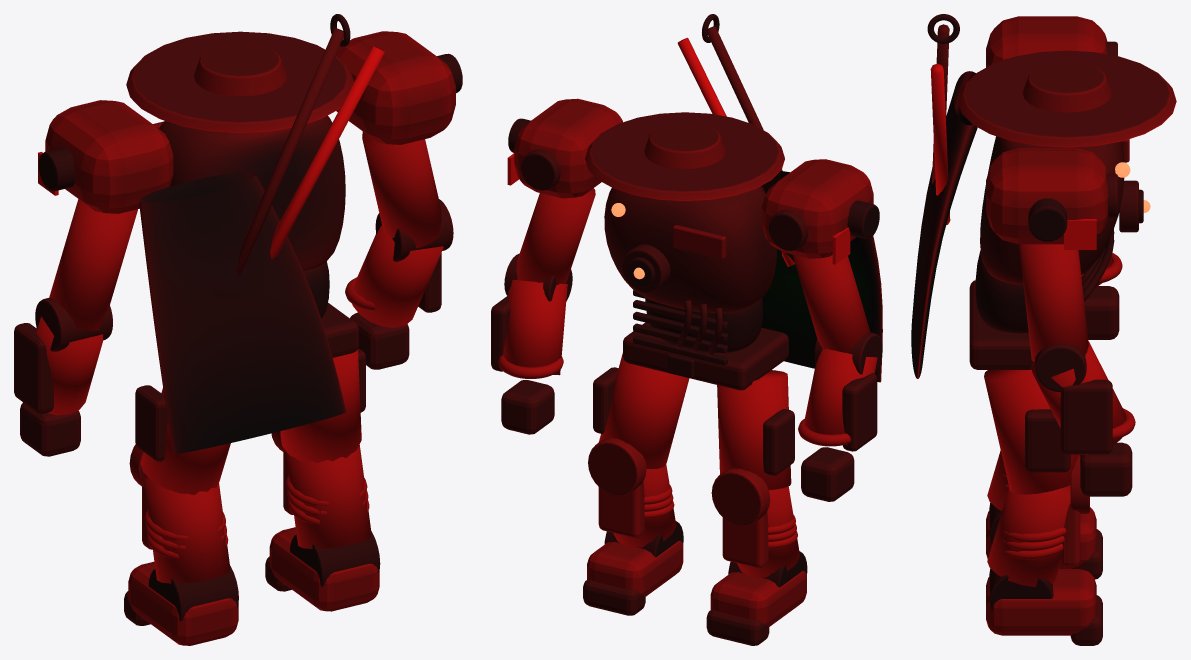
File: mf_raleigh.glb
3 views of the same model, side by side, from view 1: azimuth 30°, elevation 25°; view 2: azimuth 150°, elevation 25°; view 3: azimuth 270°, elevation 25° (orthographic). The views are drawn at different scales.
Parts seen in each view (by area): view 1: cloak, brim, chest, pauldron_l, pauldron_r, upper_l, shin_l, upper_r, shin_r, fore_r, boot_r, boot_l (+18 smaller); view 2: chest, brim, pauldron_l, cloak, thigh_r, pauldron_r, thigh_l, upper_l, upper_r, fore_r, belt, boot_r (+37 smaller); view 3: brim, pauldron_r, upper_r, cloak, thigh_r, boot_r, shin_r, pauldron_l, chest, fore_plate_r, crown, belt (+24 smaller).
Part boxes in pixels (x1,y1,x2,y2): cloak: [139, 172, 346, 454]; brim: [126, 31, 353, 133]; chest: [159, 115, 345, 270]; pauldron_l: [45, 100, 173, 213]; pauldron_r: [336, 31, 455, 144]; upper_l: [49, 199, 137, 330]; shin_l: [143, 475, 229, 583]; upper_r: [362, 131, 441, 248]; shin_r: [285, 445, 370, 549]; fore_r: [352, 225, 443, 327]; boot_r: [269, 527, 379, 611]; boot_l: [128, 561, 238, 645]; chest: [604, 186, 777, 313]; brim: [585, 112, 784, 201]; pauldron_l: [761, 159, 873, 258]; cloak: [761, 171, 882, 382]; thigh_r: [598, 353, 689, 468]; pauldron_r: [514, 98, 622, 198]; thigh_l: [717, 370, 791, 490]; upper_l: [792, 255, 870, 353]; upper_r: [516, 188, 595, 284]; fore_r: [503, 279, 567, 375]; belt: [623, 322, 788, 390]; boot_r: [587, 540, 683, 596]; brim: [958, 50, 1176, 147]; pauldron_r: [986, 148, 1108, 244]; upper_r: [1019, 244, 1088, 361]; cloak: [911, 71, 977, 378]; thigh_r: [984, 369, 1079, 494]; boot_r: [986, 569, 1096, 635]; shin_r: [987, 485, 1070, 586]; pauldron_l: [986, 16, 1107, 67]; chest: [980, 136, 1124, 284]; fore_plate_r: [1060, 379, 1112, 454]; crown: [1022, 61, 1111, 112]; belt: [969, 280, 1032, 369].
Size of the model in its own units: 0.705 by 1.02 by 0.408.
